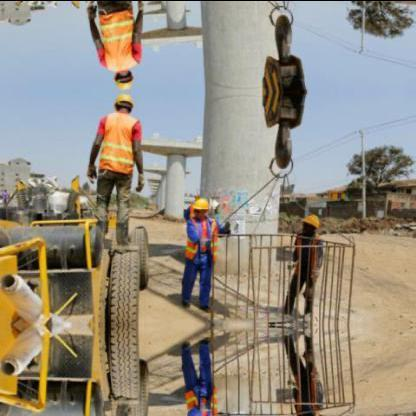Helmet: (298, 210, 320, 234), (190, 194, 210, 220), (111, 91, 133, 111), (111, 69, 133, 89)
